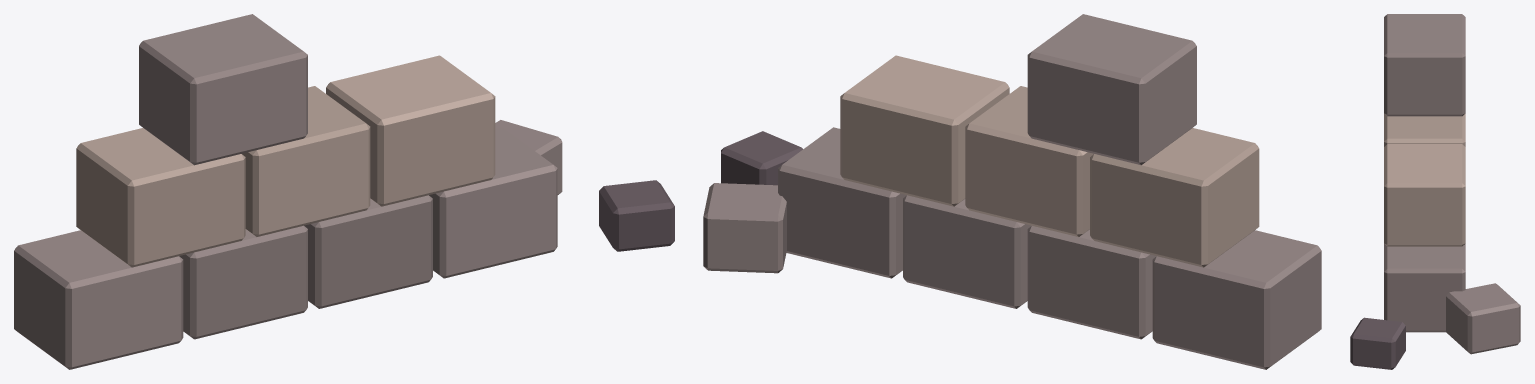
File: Block_Ruin_B.fbx
3 views of the same model, side by side, from view 1: azimuth 30°, elevation 25°; view 2: azimuth 150°, elevation 25°; view 3: azimuth 270°, elevation 25° (orthographic). The views are drawn at different scales.
Visible parts, largest first — view 1: Block_Ruin_B; view 2: Block_Ruin_B; view 3: Block_Ruin_B.
Part boxes in pixels (left/top/right/bottom): Block_Ruin_B: left=14, top=14, right=674, bottom=369; Block_Ruin_B: left=703, top=14, right=1321, bottom=369; Block_Ruin_B: left=1350, top=14, right=1520, bottom=369.
Bounding box in the file's own units: 4.31 × 1.8 × 1.46.
